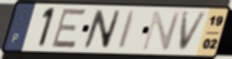1: (38, 7, 58, 50)
E: (49, 7, 89, 50)
I: (115, 9, 138, 51)
N: (140, 10, 184, 52), (81, 8, 123, 51)
V: (177, 10, 210, 53)
